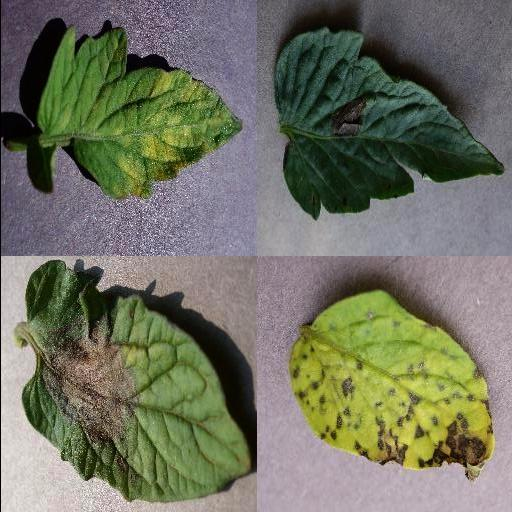Early Blight: (272, 26, 506, 222)
Late Blight: (19, 260, 251, 504)
Leaf Mold: (37, 26, 243, 200)
Septoria: (287, 290, 493, 482)
